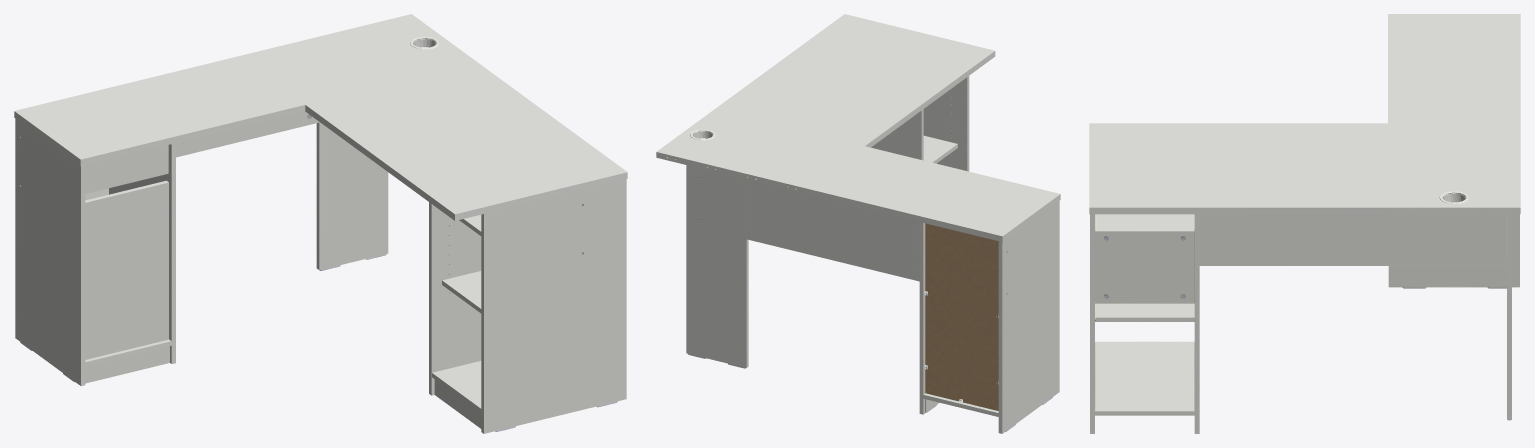
The picture shows the model from 3 angles, left to right: view 1: azimuth 30°, elevation 25°; view 2: azimuth 150°, elevation 25°; view 3: azimuth 270°, elevation 25°; orthographic projection. The views are drawn at different scales.
Parts seen in each view (by area): view 1: 6459506d-61ae-4b2f-b152-b430734f2385; view 2: 6459506d-61ae-4b2f-b152-b430734f2385; view 3: 6459506d-61ae-4b2f-b152-b430734f2385.
Part boxes in pixels (<box>): 6459506d-61ae-4b2f-b152-b430734f2385: <box>14,14,627,433</box>; 6459506d-61ae-4b2f-b152-b430734f2385: <box>656,14,1060,433</box>; 6459506d-61ae-4b2f-b152-b430734f2385: <box>1089,14,1520,433</box>.
Size of the model in its own units: 1.38 by 0.76 by 1.3.
1 material, 1 textured.
